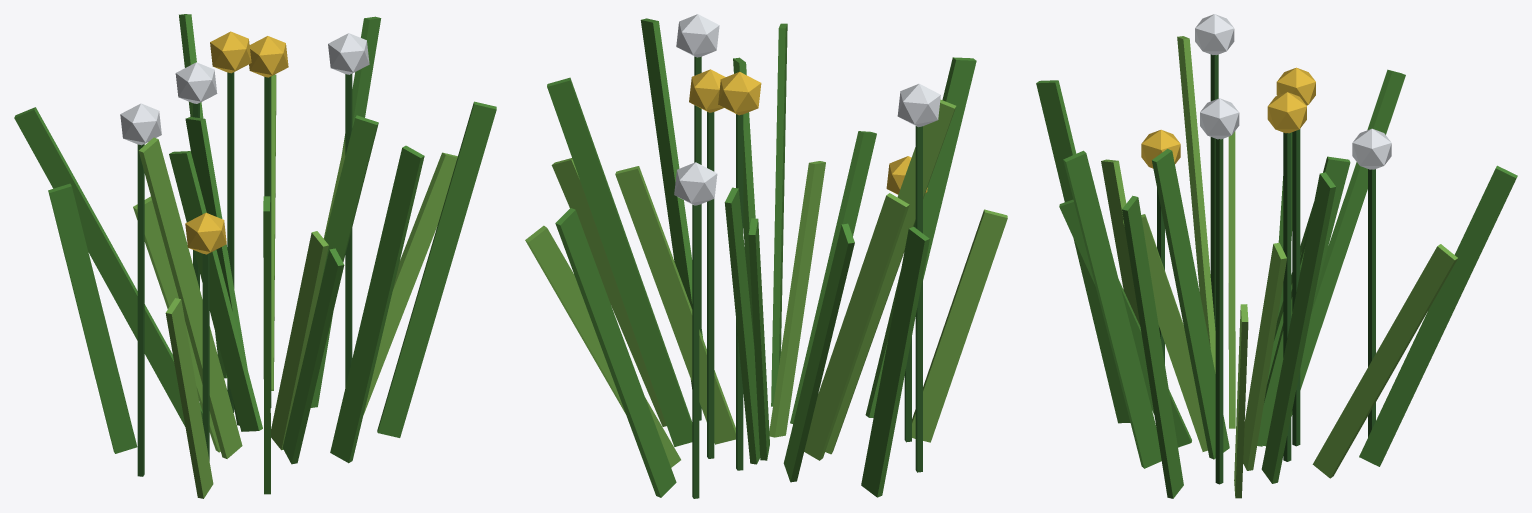
Rendered from buisson_prairie_1.glb.
3 views of the same model, side by side, from view 1: azimuth 30°, elevation 25°; view 2: azimuth 150°, elevation 25°; view 3: azimuth 270°, elevation 25° (orthographic). The views are drawn at different scales.
Parts seen in each view (by area): view 1: herbe_feuille.002, herbe_feuille_claire.004, herbe_feuille_sombre.002, herbe_blanc.002, herbe_jaune.002; view 2: herbe_feuille.002, herbe_feuille_claire.004, herbe_feuille_sombre.002, herbe_blanc.002, herbe_jaune.002; view 3: herbe_feuille.002, herbe_feuille_claire.004, herbe_feuille_sombre.002, herbe_blanc.002, herbe_jaune.002.
Part boxes in pixels (x1,y1,x2,y2): herbe_feuille.002: [14, 14, 496, 494]; herbe_feuille_claire.004: [133, 74, 457, 498]; herbe_feuille_sombre.002: [137, 72, 352, 476]; herbe_blanc.002: [120, 33, 369, 145]; herbe_jaune.002: [185, 31, 288, 254]; herbe_feuille.002: [547, 18, 976, 497]; herbe_feuille_claire.004: [525, 99, 1007, 467]; herbe_feuille_sombre.002: [692, 56, 922, 498]; herbe_blanc.002: [674, 14, 940, 205]; herbe_jaune.002: [689, 69, 927, 194]; herbe_feuille.002: [1036, 69, 1517, 498]; herbe_feuille_claire.004: [1101, 36, 1457, 498]; herbe_feuille_sombre.002: [1157, 54, 1375, 484]; herbe_blanc.002: [1195, 14, 1391, 169]; herbe_jaune.002: [1141, 67, 1315, 168].
Bounding box in the file's own units: 0.6686 × 0.6509 × 0.7295.
